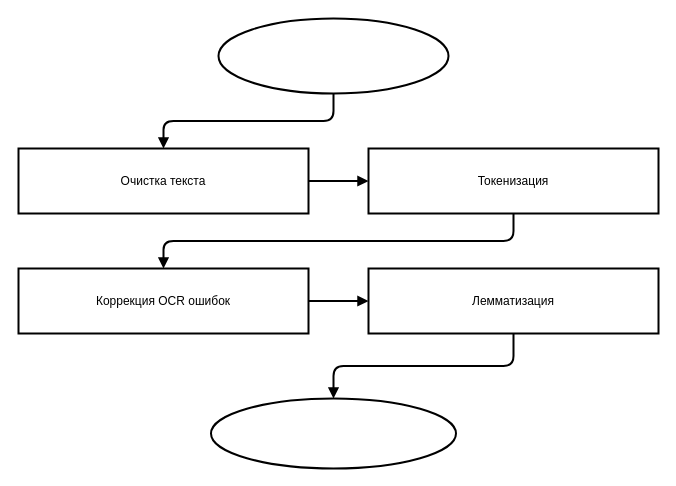
This 676x486 diagram has some shape labels left out. The centre of each missing label's shape, as x and y in pixels:
Лемматизированный текст: point 333,433
Предсказанная строка: point 333,55
